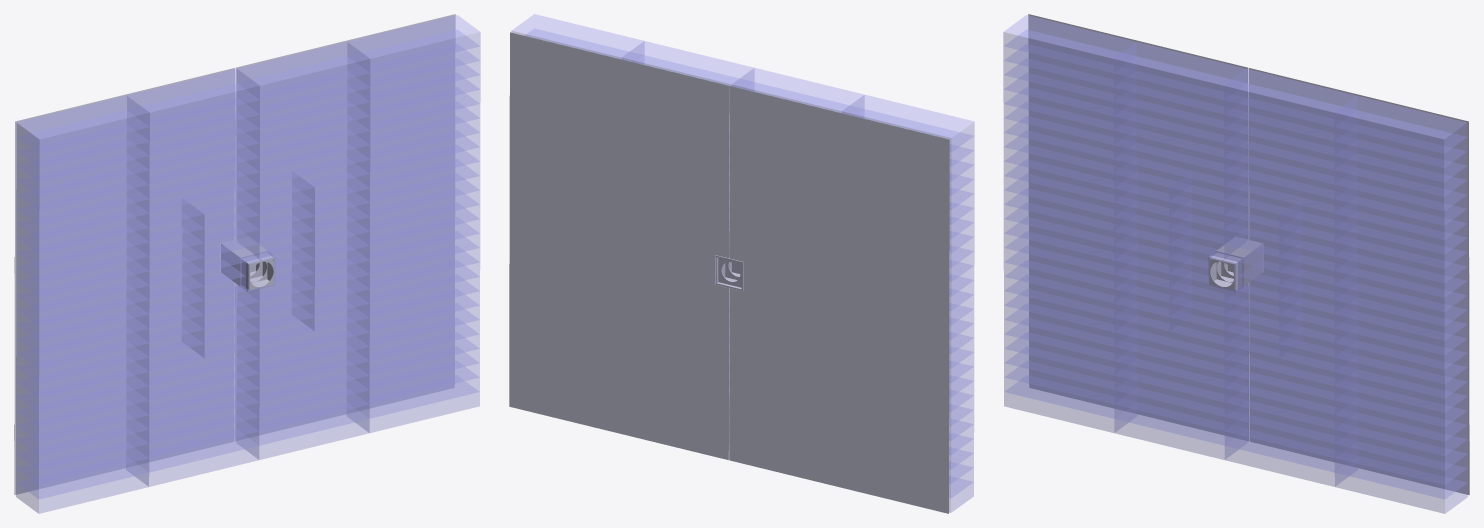
Rendered from LHCb_run3_ECAL.gltf.
3 views of the same model, side by side, from view 1: azimuth 30°, elevation 25°; view 2: azimuth 150°, elevation 25°; view 3: azimuth 330°, elevation 25° (orthographic).
Visible parts, largest first — view 1: _dd_Geometry_DownstreamRegion_Ecal_Installation_OutSectionRi (×42), _dd_Geometry_DownstreamRegion_Ecal_Installation_OutSectionLe (×42), _dd_Geometry_DownstreamRegion_Ecal_Installation_EcalRight_Fi, _dd_Geometry_DownstreamRegion_Ecal_Installation_EcalLeft_Fib, _dd_Geometry_DownstreamRegion_Ecal_Installation_MidSectionRi (×14), _dd_Geometry_DownstreamRegion_Ecal_Installation_MidSectionLe (×14), _dd_Geometry_DownstreamRegion_Ecal_Installation_InnSectionRi (×6), _dd_Geometry_DownstreamRegion_Ecal_Installation_InnSectionLe (×6), _dd_Geometry_DownstreamRegion_Ecal_Installation_PlugSupportR; view 2: _dd_Geometry_DownstreamRegion_Ecal_Installation_EcalRight_Fi, _dd_Geometry_DownstreamRegion_Ecal_Installation_EcalLeft_Fib, _dd_Geometry_DownstreamRegion_Ecal_Installation_OutSectionRi (×28), _dd_Geometry_DownstreamRegion_Ecal_Installation_OutSectionLe (×4); view 3: _dd_Geometry_DownstreamRegion_Ecal_Installation_OutSectionLe (×42), _dd_Geometry_DownstreamRegion_Ecal_Installation_OutSectionRi (×42), _dd_Geometry_DownstreamRegion_Ecal_Installation_EcalLeft_Fib, _dd_Geometry_DownstreamRegion_Ecal_Installation_EcalRight_Fi, _dd_Geometry_DownstreamRegion_Ecal_Installation_MidSectionLe (×14), _dd_Geometry_DownstreamRegion_Ecal_Installation_MidSectionRi (×14), _dd_Geometry_DownstreamRegion_Ecal_Installation_InnSectionLe (×6), _dd_Geometry_DownstreamRegion_Ecal_Installation_InnSectionRi (×6), _dd_Geometry_DownstreamRegion_Ecal_Installation_PlugSupportL.
Part boxes in pixels (<box>): _dd_Geometry_DownstreamRegion_Ecal_Installation_OutSectionRi (×42): <box>16,69,259,513</box>; _dd_Geometry_DownstreamRegion_Ecal_Installation_OutSectionLe (×42): <box>237,15,480,459</box>; _dd_Geometry_DownstreamRegion_Ecal_Installation_EcalRight_Fi: <box>14,68,234,495</box>; _dd_Geometry_DownstreamRegion_Ecal_Installation_EcalLeft_Fib: <box>235,14,455,440</box>; _dd_Geometry_DownstreamRegion_Ecal_Installation_MidSectionRi (×14): <box>135,190,259,371</box>; _dd_Geometry_DownstreamRegion_Ecal_Installation_MidSectionLe (×14): <box>245,163,369,344</box>; _dd_Geometry_DownstreamRegion_Ecal_Installation_InnSectionRi (×6): <box>190,219,259,329</box>; _dd_Geometry_DownstreamRegion_Ecal_Installation_InnSectionLe (×6): <box>246,205,314,315</box>; _dd_Geometry_DownstreamRegion_Ecal_Installation_PlugSupportR: <box>221,245,241,284</box>; _dd_Geometry_DownstreamRegion_Ecal_Installation_EcalRight_Fi: <box>729,86,949,513</box>; _dd_Geometry_DownstreamRegion_Ecal_Installation_EcalLeft_Fib: <box>509,32,729,460</box>; _dd_Geometry_DownstreamRegion_Ecal_Installation_OutSectionRi (×28): <box>732,68,974,512</box>; _dd_Geometry_DownstreamRegion_Ecal_Installation_OutSectionLe (×4): <box>511,14,754,88</box>; _dd_Geometry_DownstreamRegion_Ecal_Installation_OutSectionLe (×42): <box>1224,69,1467,513</box>; _dd_Geometry_DownstreamRegion_Ecal_Installation_OutSectionRi (×42): <box>1003,15,1246,459</box>; _dd_Geometry_DownstreamRegion_Ecal_Installation_EcalLeft_Fib: <box>1249,68,1469,495</box>; _dd_Geometry_DownstreamRegion_Ecal_Installation_EcalRight_Fi: <box>1028,14,1248,440</box>; _dd_Geometry_DownstreamRegion_Ecal_Installation_MidSectionLe (×14): <box>1224,190,1348,371</box>; _dd_Geometry_DownstreamRegion_Ecal_Installation_MidSectionRi (×14): <box>1114,163,1238,344</box>; _dd_Geometry_DownstreamRegion_Ecal_Installation_InnSectionLe (×6): <box>1224,219,1293,329</box>; _dd_Geometry_DownstreamRegion_Ecal_Installation_InnSectionRi (×6): <box>1169,205,1237,315</box>; _dd_Geometry_DownstreamRegion_Ecal_Installation_PlugSupportL: <box>1242,245,1262,284</box>.
Size of the model in its own units: 7802 by 6341 by 833.
